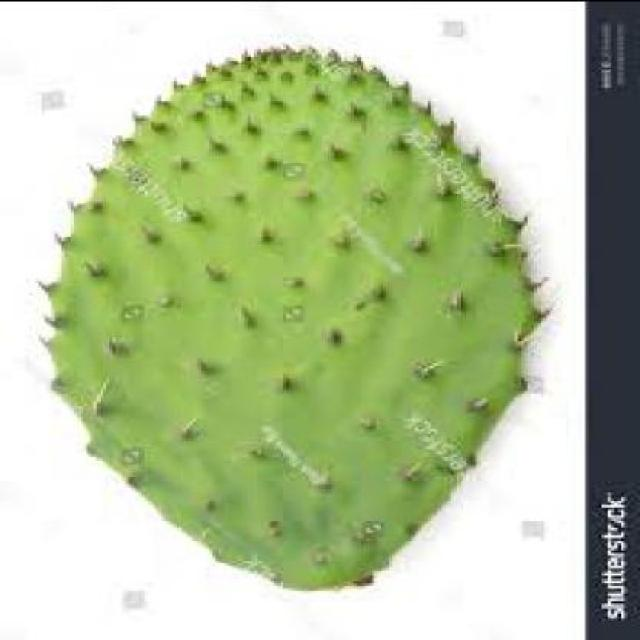BIODEGRADABLE: (32, 48, 550, 592)
